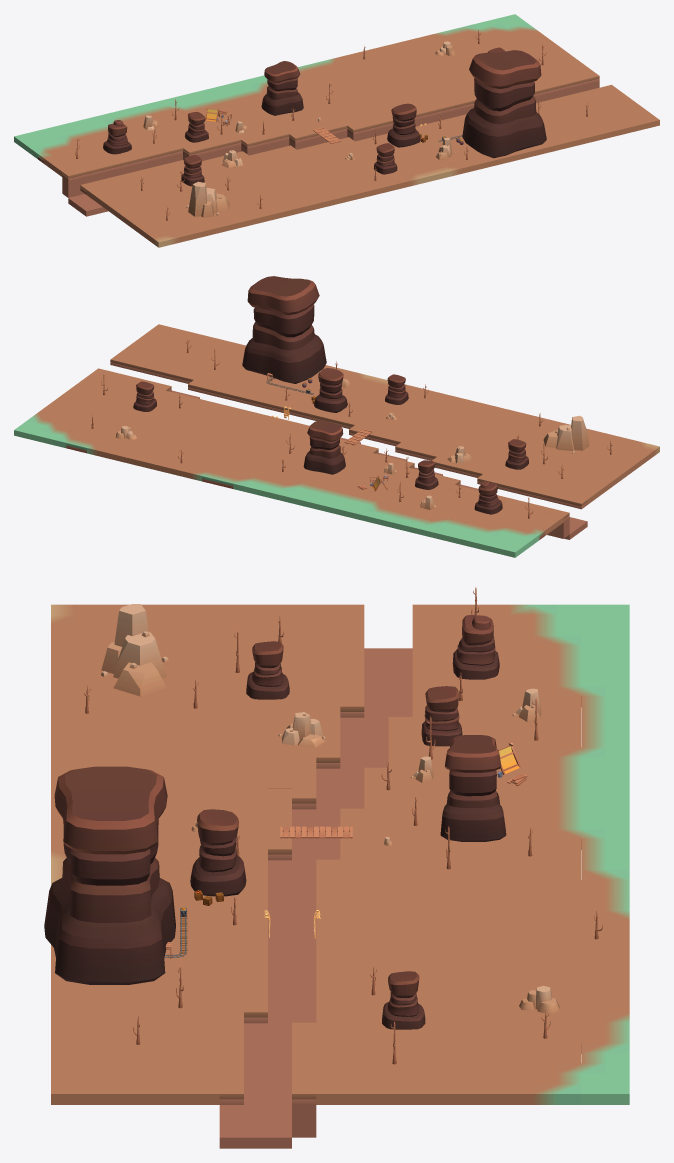
File: Badlands-transformed.glb
The picture shows the model from 3 angles, top to bottom: view 1: azimuth 30°, elevation 25°; view 2: azimuth 150°, elevation 25°; view 3: azimuth 270°, elevation 25°; orthographic projection. The views are drawn at different scales.
Parts seen in each view (by area): view 1: square_rock10, RocksPackCube101, square_ground2, square_plain10, square_plainToRock_corner_A10, floor-old, square_rockToSand2, Tree_Bare_2_A_Color1; view 2: square_rock10, RocksPackCube101, square_plain10, square_plainToRock_corner_A10, floor-old, square_ground2, Tree_Bare_2_A_Color1; view 3: square_rock10, RocksPackCube101, square_ground2, square_plain10, square_plainToRock_corner_A10, floor-old, Tree_Bare_2_A_Color1, square_rockToSand2.
Part boxes in pixels (x1,y1,x2,y2): square_rock10: [44, 30, 659, 242]; RocksPackCube101: [103, 47, 546, 186]; square_ground2: [62, 78, 599, 216]; square_plain10: [14, 14, 526, 154]; square_plainToRock_corner_A10: [32, 23, 538, 160]; floor-old: [143, 41, 455, 217]; square_rockToSand2: [152, 164, 461, 247]; Tree_Bare_2_A_Color1: [75, 30, 588, 220]; square_rock10: [38, 324, 653, 535]; RocksPackCube101: [133, 276, 528, 514]; square_plain10: [14, 421, 533, 557]; square_plainToRock_corner_A10: [26, 412, 545, 544]; floor-old: [115, 373, 589, 509]; square_ground2: [110, 362, 587, 539]; Tree_Bare_2_A_Color1: [91, 339, 612, 518]; square_rock10: [51, 604, 629, 1104]; RocksPackCube101: [44, 615, 506, 1029]; square_ground2: [219, 648, 412, 1148]; square_plain10: [557, 604, 629, 1104]; square_plainToRock_corner_A10: [509, 604, 629, 1104]; floor-old: [101, 604, 559, 1014]; Tree_Bare_2_A_Color1: [84, 587, 602, 1064]; square_rockToSand2: [51, 604, 74, 885].
Size of the model in its own units: 96 by 20.58 by 48.56.
12 materials, 8 textured.
